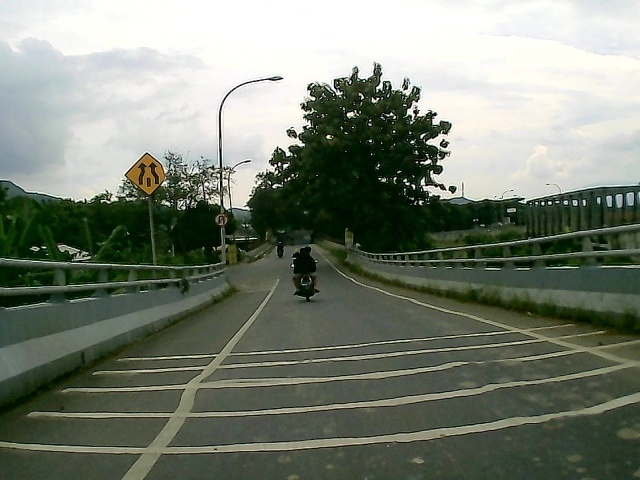Akhir bangunan pemisah satu arah: (123, 149, 171, 199)
Dilarang berbalik arah: (214, 213, 229, 228)
